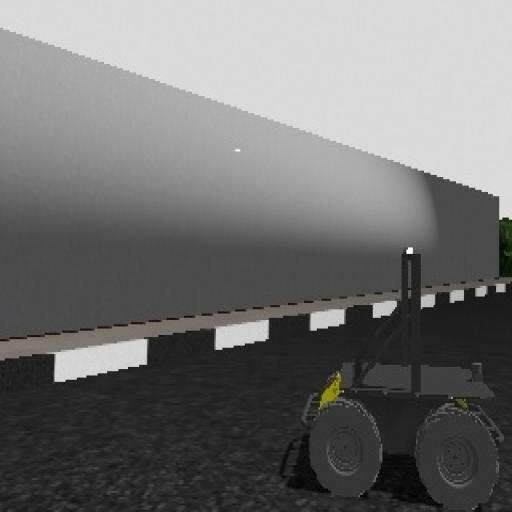huskya200: (278, 234, 504, 510)
